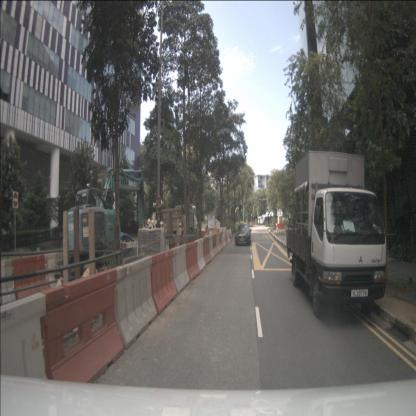barrier: (33, 268, 124, 397), (0, 292, 53, 416), (104, 257, 158, 350), (144, 250, 177, 316), (11, 254, 49, 302), (44, 251, 82, 293), (166, 244, 190, 294), (179, 240, 200, 281), (0, 259, 17, 306), (190, 239, 206, 273), (199, 238, 211, 265), (206, 236, 215, 258), (210, 233, 218, 256), (214, 232, 222, 254), (216, 232, 224, 251), (220, 230, 227, 249), (200, 229, 210, 242), (223, 229, 228, 246), (225, 229, 230, 245), (277, 223, 284, 230)
